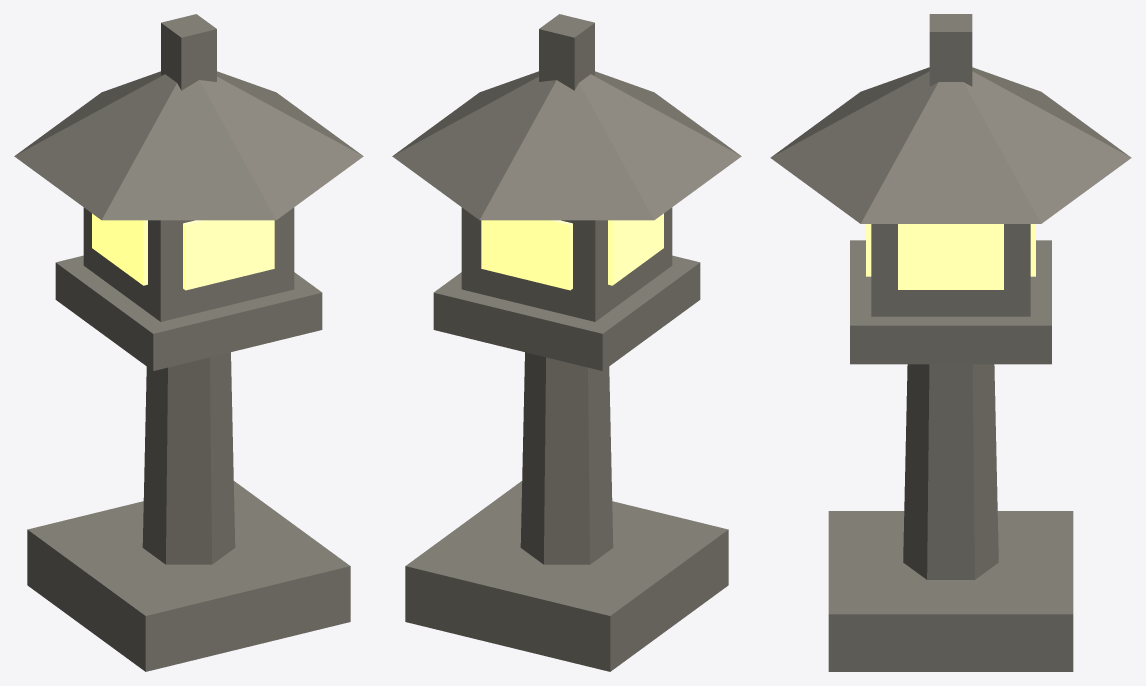
Rendered from jap-lanterna.gltf.
3 views of the same model, side by side, from view 1: azimuth 30°, elevation 25°; view 2: azimuth 150°, elevation 25°; view 3: azimuth 270°, elevation 25° (orthographic). The views are drawn at different scales.
Parts seen in each view (by area): view 1: jap-lanterna; view 2: jap-lanterna; view 3: jap-lanterna.
Boxes of the visible parts, x1,y1,x2,y2 form: jap-lanterna: (14,14,363,671); jap-lanterna: (392,14,741,671); jap-lanterna: (770,14,1131,671).
Bounding box in the file's own units: 0.5889 × 1.24 × 0.68.
